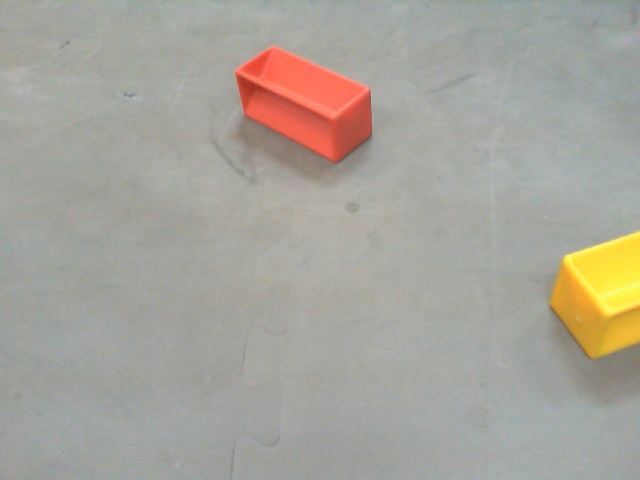RedSample: (236, 47, 372, 161)
YellowSample: (549, 227, 640, 361)
